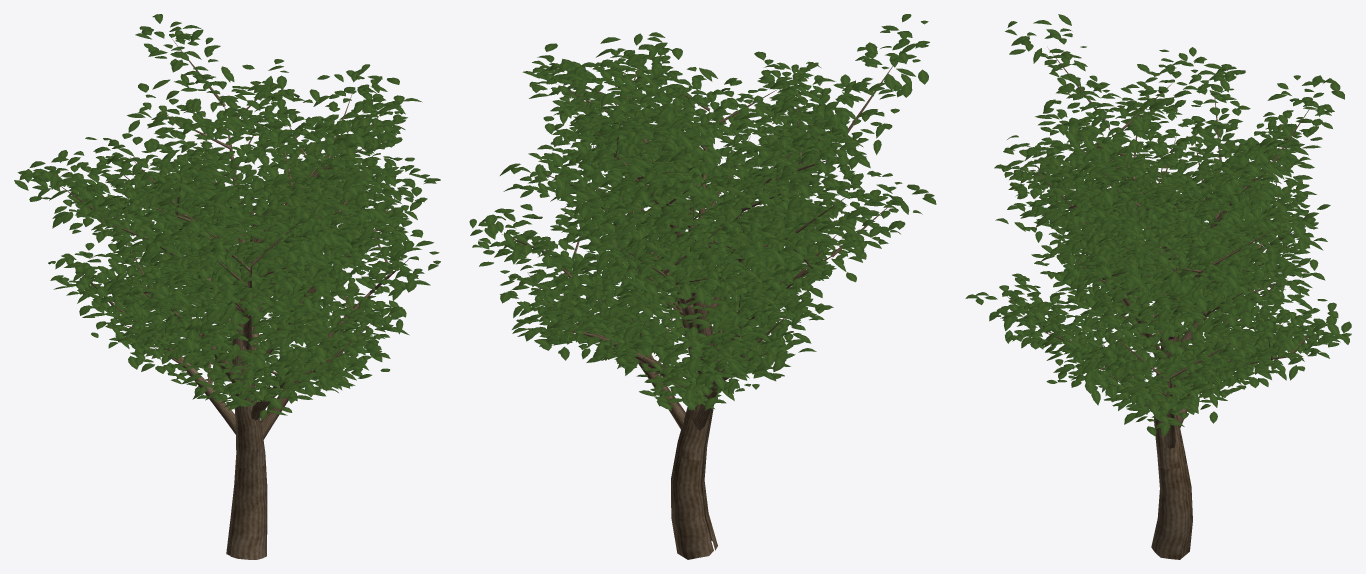
Rendered from garden-tree-0.glb.
The picture shows the model from 3 angles, left to right: view 1: azimuth 30°, elevation 25°; view 2: azimuth 150°, elevation 25°; view 3: azimuth 270°, elevation 25°; orthographic projection. The views are drawn at different scales.
Visible parts, largest first — view 1: Curled leaves with midrib and vein texture, Continuous tapered trunk and fine branches; view 2: Curled leaves with midrib and vein texture, Continuous tapered trunk and fine branches; view 3: Curled leaves with midrib and vein texture, Continuous tapered trunk and fine branches.
Boxes of the visible parts, <box> form: Curled leaves with midrib and vein texture: <box>14,14,440,420</box>; Continuous tapered trunk and fine branches: <box>61,39,408,559</box>; Curled leaves with midrib and vein texture: <box>469,14,936,410</box>; Continuous tapered trunk and fine branches: <box>502,60,895,559</box>; Curled leaves with midrib and vein texture: <box>965,14,1351,436</box>; Continuous tapered trunk and fine branches: <box>1007,48,1313,559</box>.
Bounding box in the file's own units: 6.76 × 8.21 × 6.06.
2 materials, 2 textured.
